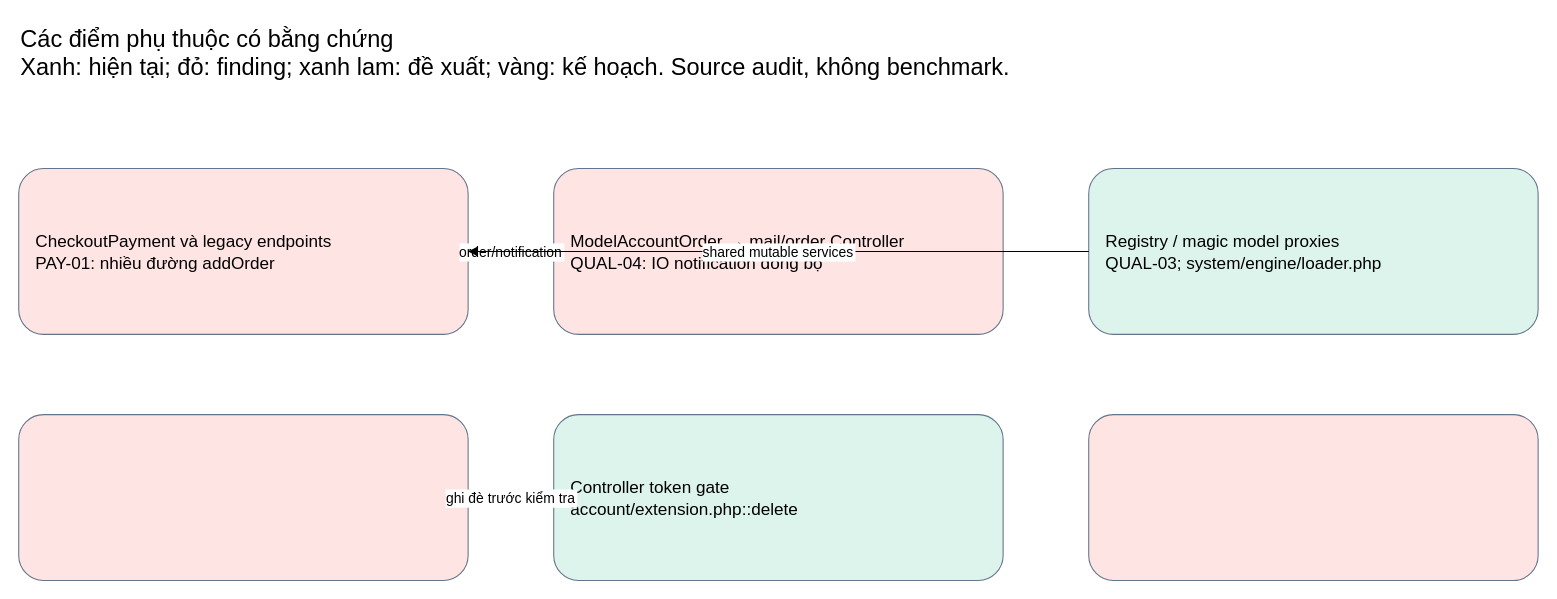
The diagram is 1557 pixels wide and 599 high, and some of its shapes have lost their labels. Here are the shapes that lost their labels. From the top down, the centre of each, then its label:
(243,497): Frontend startup ghi token request SEC-01; startup/startup.php:137
(1313,497): Admin missing model targets QUAL-01: setting/statistics, setting/extension
